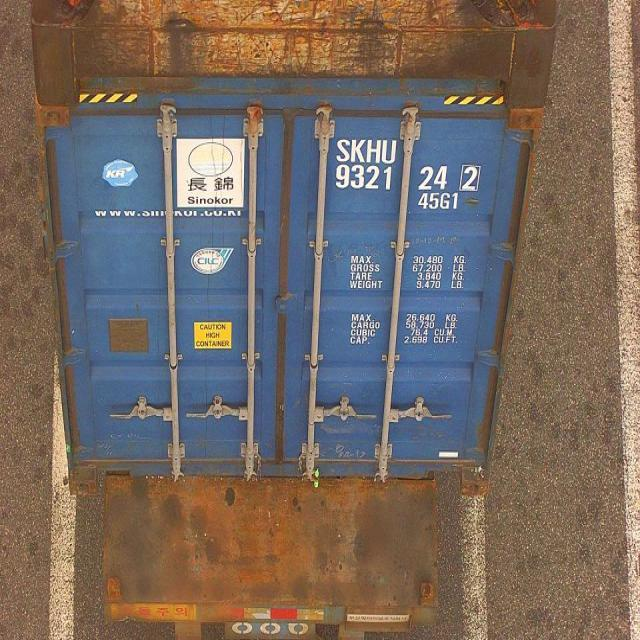ISO: (421, 190, 459, 215)
container_number: (334, 132, 484, 188)
